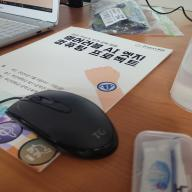mouse: (2, 89, 121, 161)
